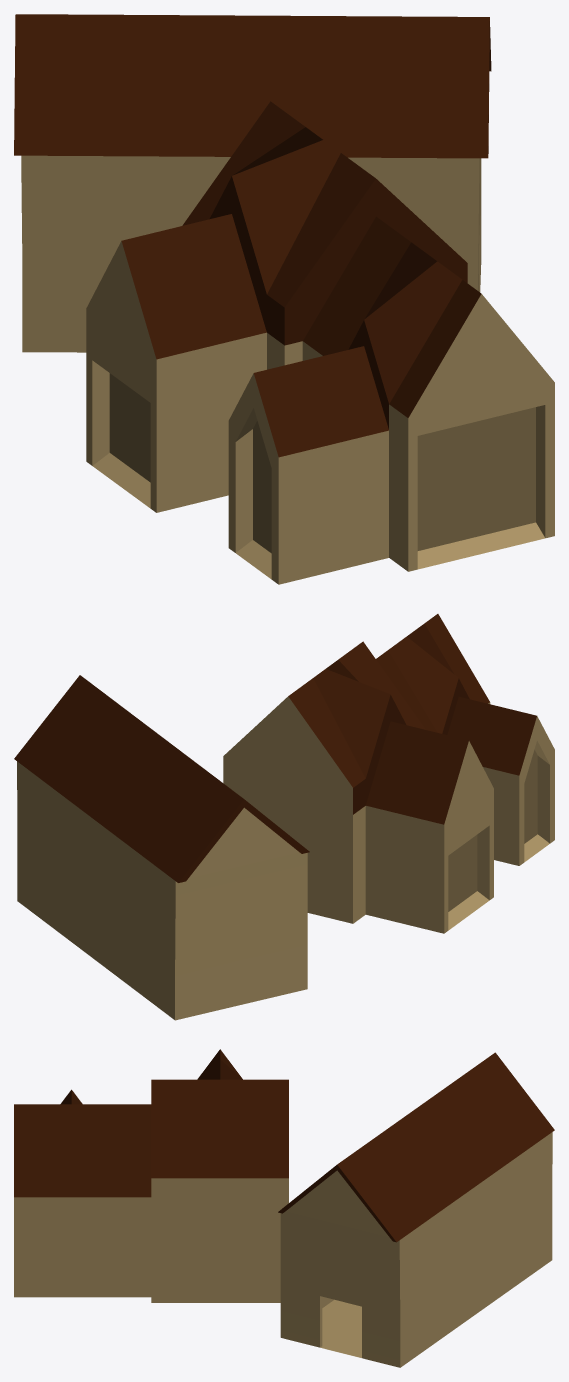
File: pareja_casa3.fbx
3 renders of one model, top to bottom at view 1: azimuth 30°, elevation 25°; view 2: azimuth 150°, elevation 25°; view 3: azimuth 270°, elevation 25°, orthographic. The views are drawn at different scales.
Visible parts, largest first — view 1: casa5, casa4; view 2: casa5, casa4; view 3: casa5, casa4.
Boxes of the visible parts, box(x1,y1,x2,y2) form: casa5: box(86, 101, 554, 584); casa4: box(14, 14, 491, 352); casa5: box(223, 614, 554, 933); casa4: box(14, 675, 309, 1020); casa5: box(14, 1049, 288, 1302); casa4: box(278, 1052, 554, 1367).
Bounding box in the file's own units: 115 × 64.64 × 163.
